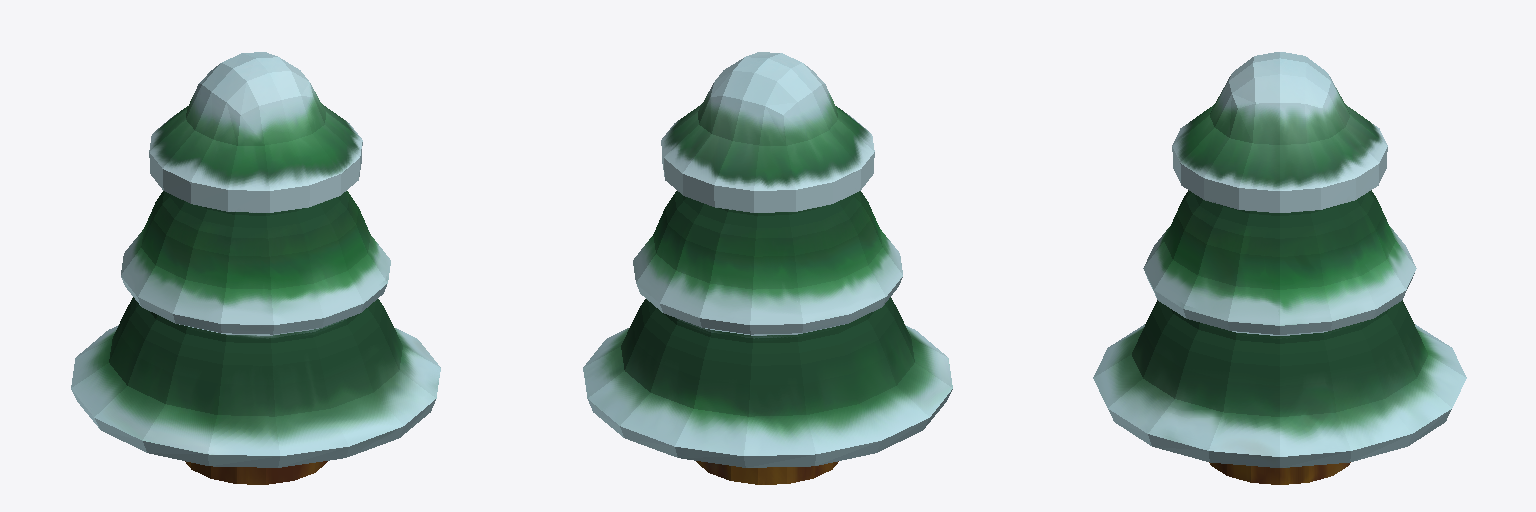
3 renders of one model, left to right at view 1: azimuth 30°, elevation 25°; view 2: azimuth 150°, elevation 25°; view 3: azimuth 270°, elevation 25°, orthographic.
Visible parts, largest first — view 1: pino; view 2: pino; view 3: pino.
Boxes of the visible parts, box(x1,y1,x2,y2) form: pino: box(71, 52, 440, 484); pino: box(583, 52, 952, 484); pino: box(1093, 52, 1466, 484).
Bounding box in the file's own units: 5.09 × 5.94 × 5.09.
Materials: 1 (1 with a texture image).